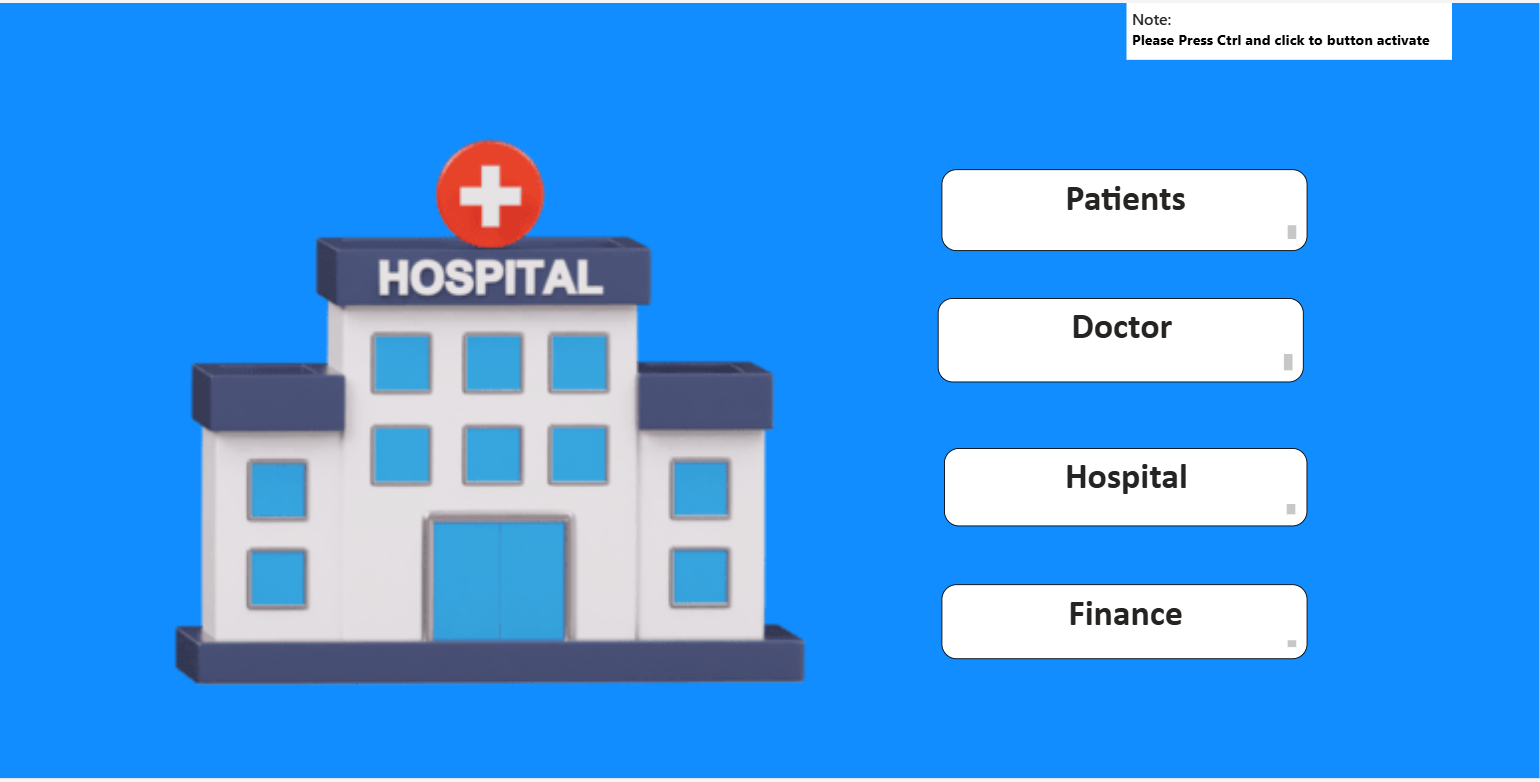

This screenshot's page, from the dashboard's own definition file:
{"tool":"powerbi","page":{"name":"overview","canvas":[1280,720],"ordinal":0},"visuals":[{"type":"image","box":[29.2,72.2,718.1,647.2],"z":0},{"type":"textbox","title":"Doctor","box":[802.8,273.6,340.3,78.2],"z":0,"group":"g2"},{"type":"group","id":"g1","title":"Group 1","box":[805.6,143.1,340.3,87.5],"z":1000},{"type":"textbox","title":"Patients","box":[805.6,155.1,340.3,75.7],"z":2000,"group":"g1"},{"type":"group","id":"g2","title":"Group 2","box":[802.8,268.1,340.3,84.7],"z":2000},{"type":"group","id":"g3","title":"Group 3","box":[808.3,413.9,343.1,72.2],"z":3000},{"type":"textbox","title":"Hospital","box":[808.3,413.9,337.2,72.7],"z":3000,"group":"g3"},{"type":"textbox","title":"Finance","box":[805.6,540.3,340.3,69.4],"z":4000,"group":"g4"},{"type":"actionButton","box":[806.1,143.1,337.5,84.7],"z":5000,"group":"g1"},{"type":"actionButton","box":[808.1,268.1,318.1,77.8],"z":6000,"group":"g2"},{"type":"actionButton","box":[815.3,415.8,336.1,68.1],"z":7000,"group":"g3"},{"type":"actionButton","box":[808.4,543.1,330.6,62.5],"z":8000,"group":"g4"},{"type":"group","id":"g4","title":"Group 4","box":[805.6,540.3,340.3,69.4],"z":8001},{"type":"textbox","box":[977.8,0,302.8,52.8],"z":8002}]}

Visuals, with their boxes on the page's 1280x720 design canvas (x1, y1, x2, y2). These are canvas units, not pixel positions in the 1540x782 screenshot, which may show the page scaled, cropped or inside an application window:
image: [29,72,747,719]
"Doctor" textbox: [803,274,1143,352]
"Group 1" group: [806,143,1146,231]
"Patients" textbox: [806,155,1146,231]
"Group 2" group: [803,268,1143,353]
"Group 3" group: [808,414,1151,486]
"Hospital" textbox: [808,414,1146,487]
"Finance" textbox: [806,540,1146,610]
actionButton: [806,143,1144,228]
actionButton: [808,268,1126,346]
actionButton: [815,416,1151,484]
actionButton: [808,543,1139,606]
"Group 4" group: [806,540,1146,610]
textbox: [978,0,1281,53]
